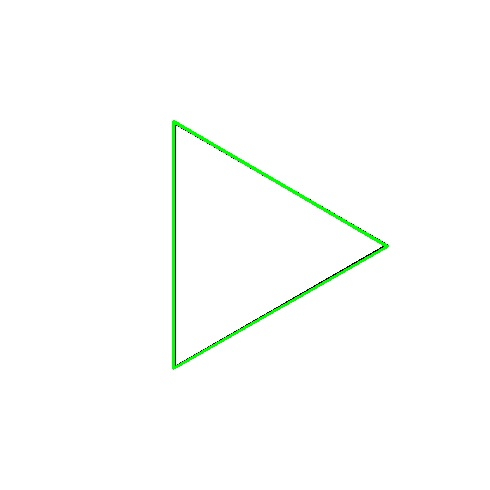line_segment: (172, 121, 388, 369)
